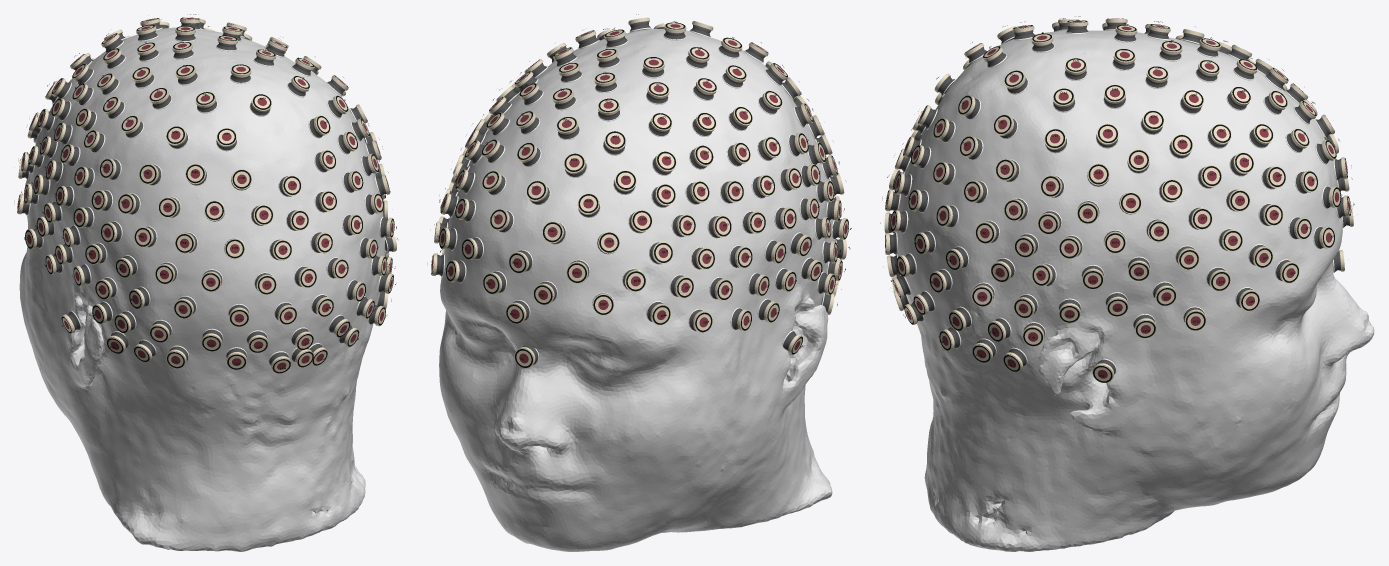
Rendered from electrodes_GSN-HydroCel-185.glb.
3 renders of one model, left to right at view 1: azimuth 30°, elevation 25°; view 2: azimuth 150°, elevation 25°; view 3: azimuth 270°, elevation 25°, orthographic. The views are drawn at different scales.
Parts seen in each view (by area): view 1: Scalp, Electrode; view 2: Scalp, Electrode; view 3: Scalp, Electrode.
Boxes of the visible parts, left/top/right/bottom form: Scalp: left=19, top=27, right=385, bottom=551; Electrode: left=17, top=14, right=397, bottom=373; Scalp: left=439, top=29, right=836, bottom=551; Electrode: left=431, top=14, right=851, bottom=368; Scalp: left=895, top=30, right=1374, bottom=551; Electrode: left=880, top=16, right=1354, bottom=382.
Bounding box in the file's own units: 178 × 245 × 233.
4 materials, 4 textured.
